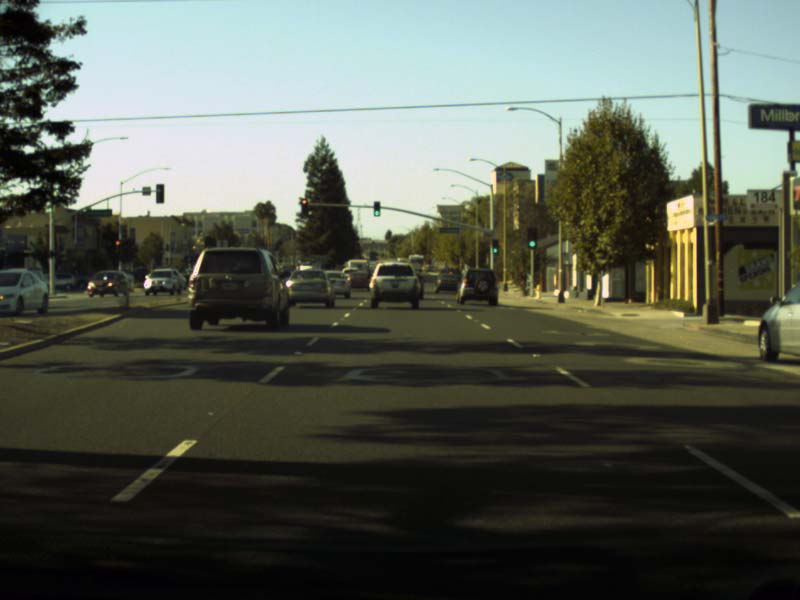Green: (527, 227, 536, 247), (492, 239, 498, 254), (373, 201, 379, 215)
Red: (301, 199, 307, 215), (114, 240, 120, 253)
